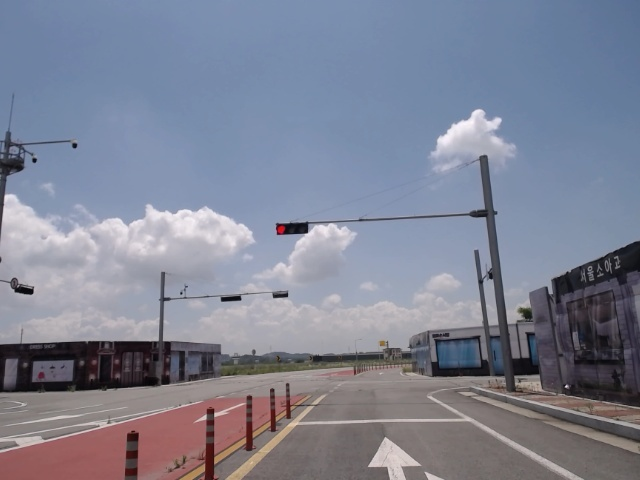red_3: (276, 223, 308, 235)
